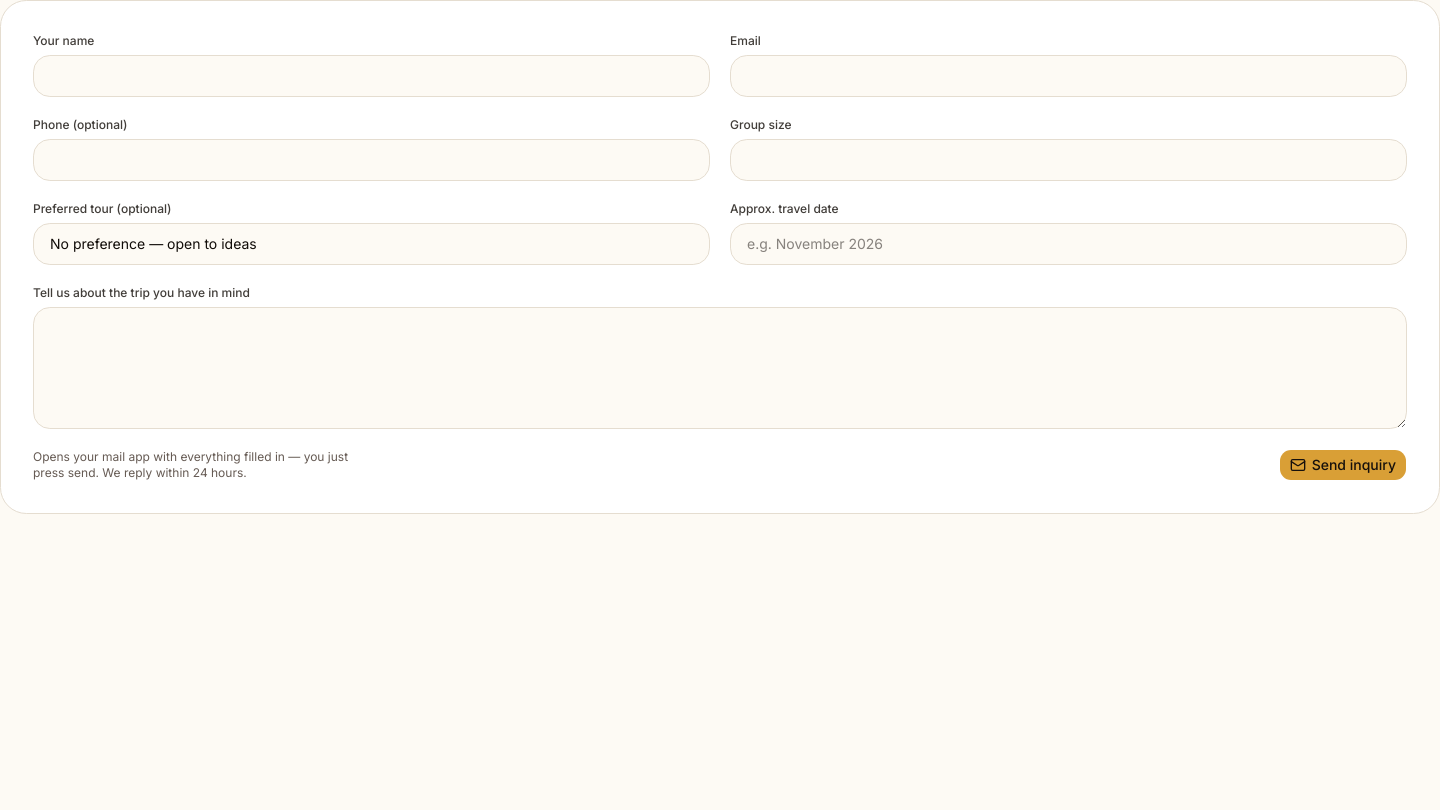
<InquiryForm /> › shows validation errors when required fields are empty
The width and height of the screenshot is (1440, 810).
Click the button "Send inquiry" at coordinates (1343, 465), box [1279, 449, 1407, 481]
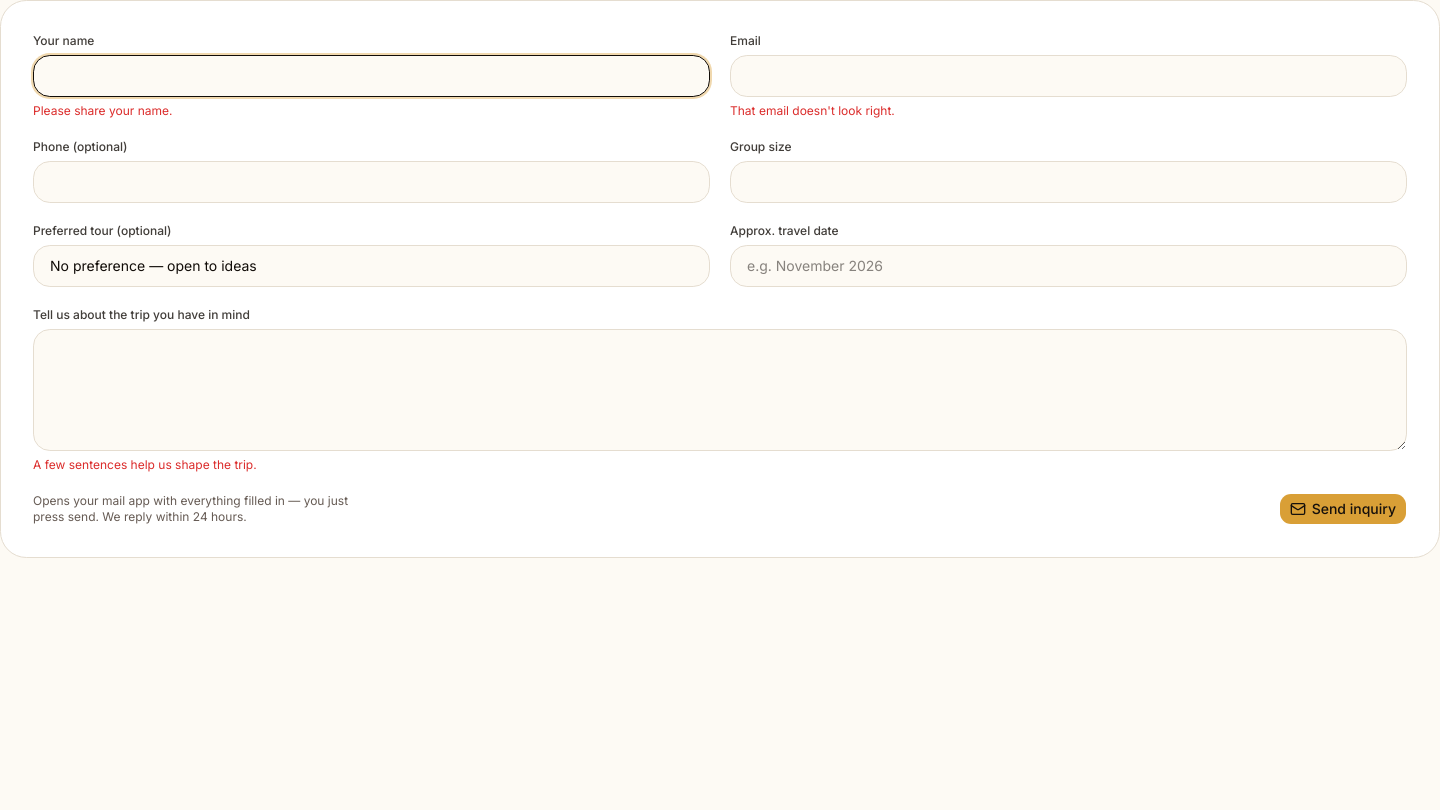
Expected: the text "Please share your name." is shown, [33, 103, 172, 118]
Expected: the text "That email doesn't look right." is shown, [730, 103, 895, 118]
Expected: the text "A few sentences help us shape the trip." is shown, [33, 457, 257, 472]
